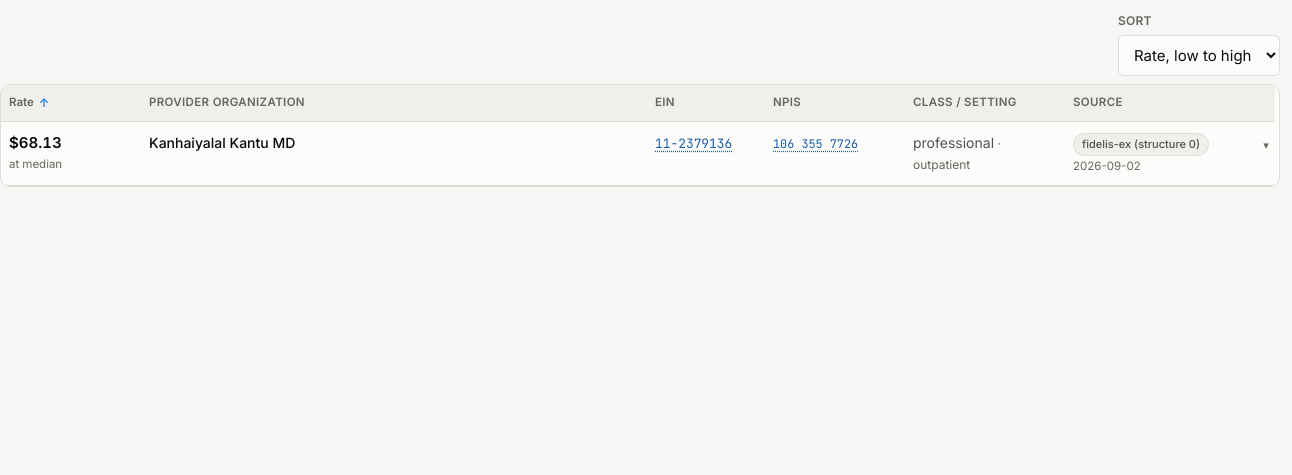
Test: expansion › expands to the full provenance via a real button
This screenshot has width=1292, height=475.
Click the button with class "expand-btn" at x=1266, y=145, box [1253,132,1279,158]
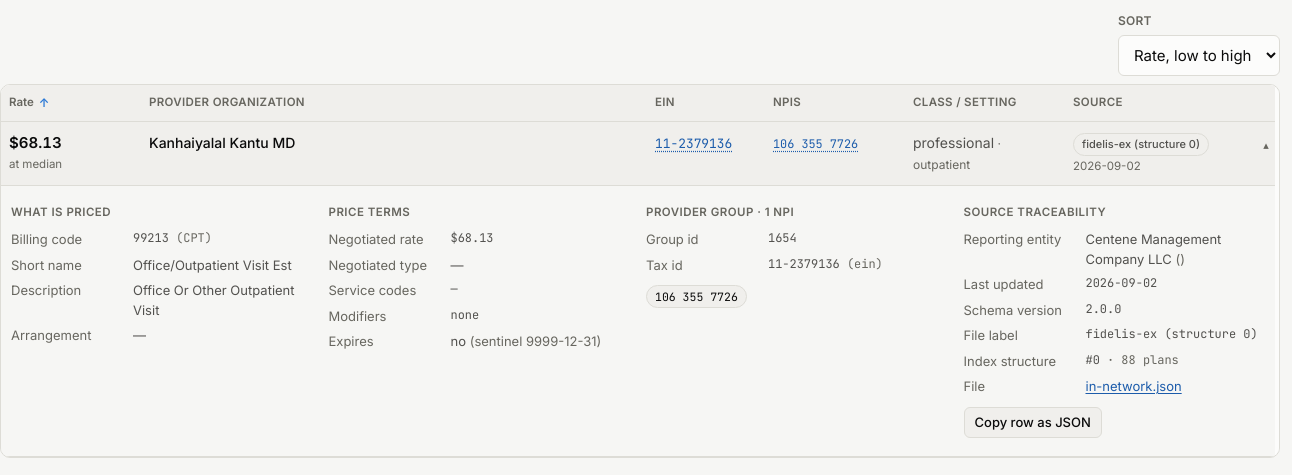
Expected: the row with class "detail-row" is shown, [0,185,1275,457]
Expected: the button with class "expand-btn" is expanded, [1253,132,1279,158]
Expected: the text "Centene Management Company LLC" is shown, [1086,231,1221,266]
